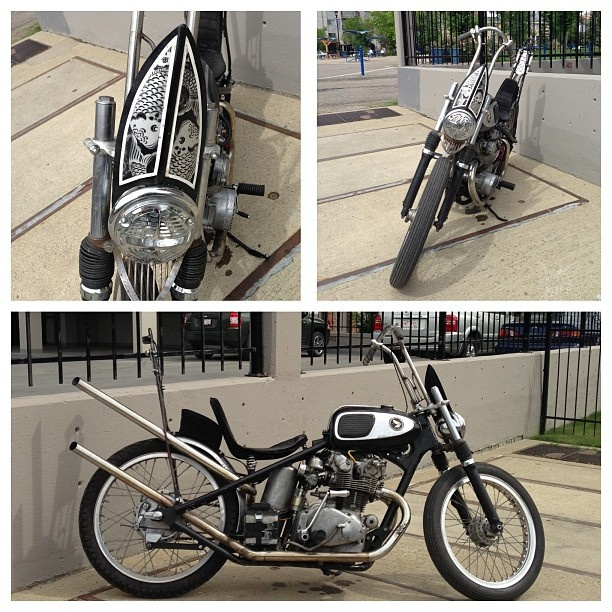non-vehicle: (72, 327, 543, 597), (78, 6, 235, 303), (389, 23, 534, 287)
